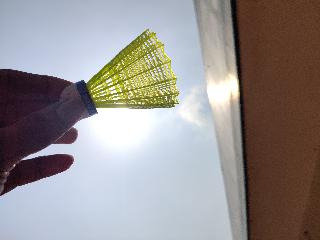shuttlecock: (60, 28, 178, 118)
